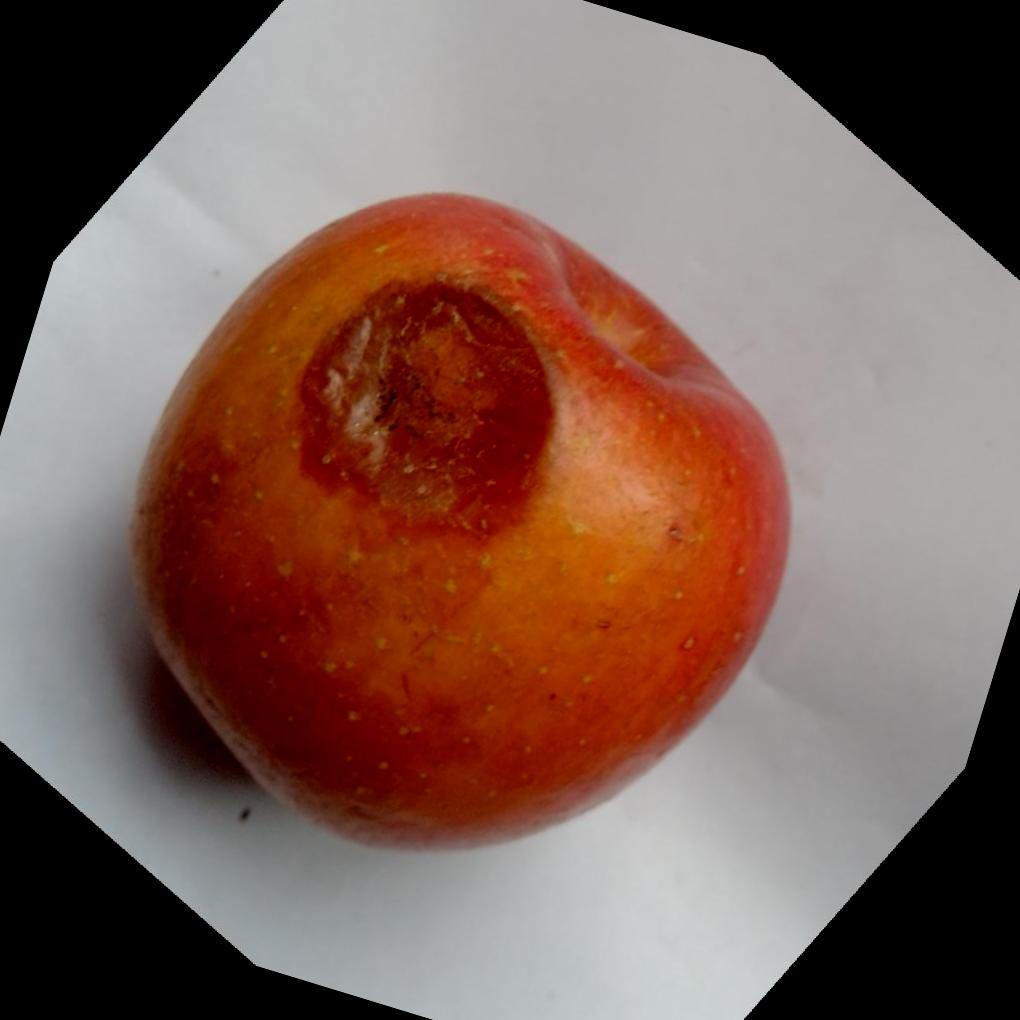FreshOrange: (128, 191, 794, 853)
